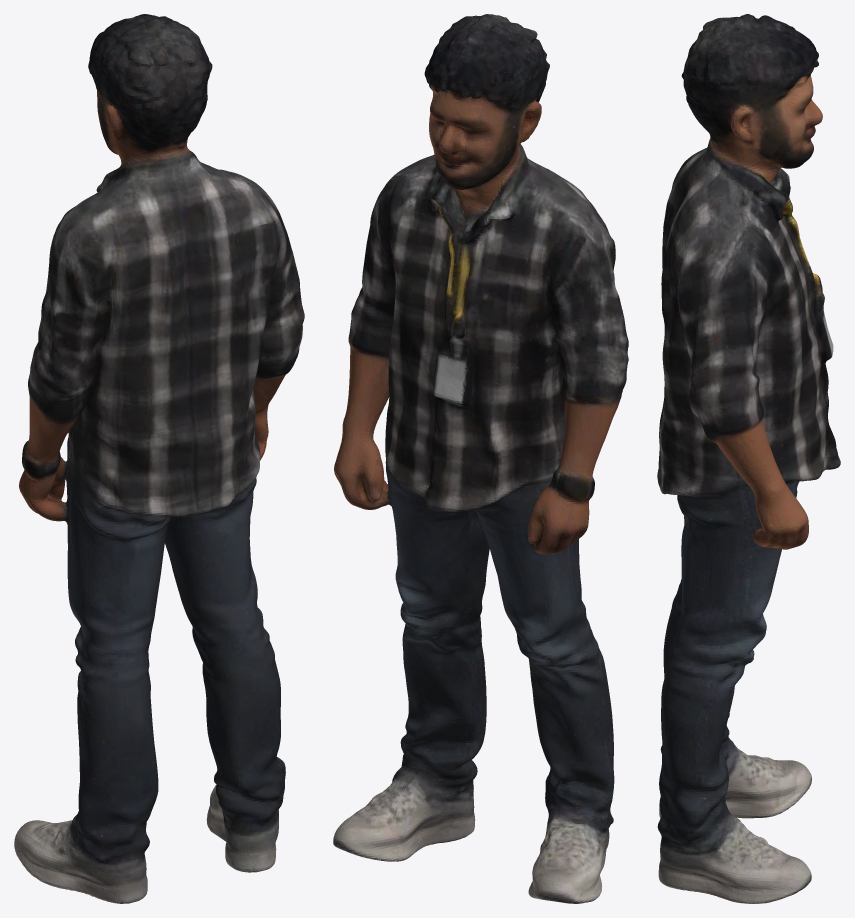
File: runner.glb
3 views of the same model, side by side, from view 1: azimuth 30°, elevation 25°; view 2: azimuth 150°, elevation 25°; view 3: azimuth 270°, elevation 25° (orthographic). The views are drawn at different scales.
Visible parts, largest first — view 1: player; view 2: player; view 3: player.
Boxes of the visible parts, x1,y1,x2,y2 form: player: (14,14,304,903); player: (333,14,628,903); player: (657,14,840,903).
Bounding box in the file's own units: 0.3299 × 1 × 0.2005.
1 material, 1 textured.
